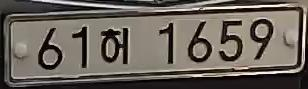1: (153, 17, 186, 67), (69, 22, 96, 71)
5: (214, 16, 249, 64)
6: (181, 18, 217, 65), (35, 22, 65, 73)
9: (246, 15, 278, 62)
허: (95, 22, 136, 68)
